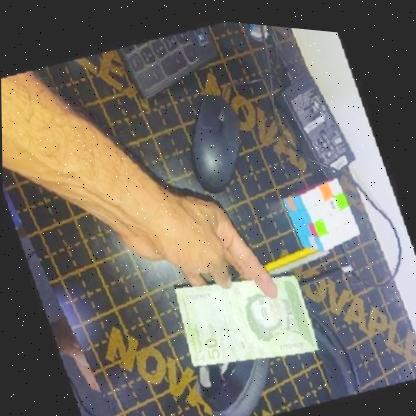fifty-front-vef: (171, 251, 318, 376)
